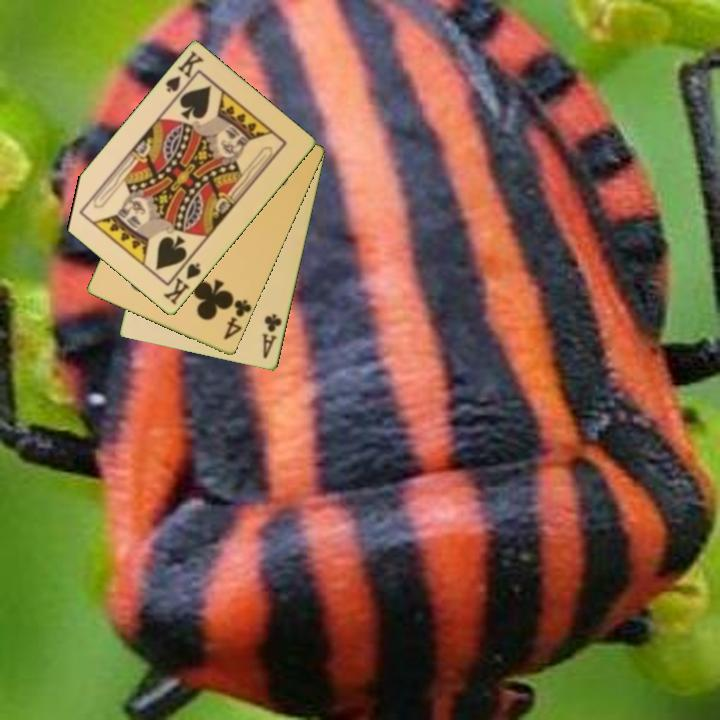4c: (220, 296, 254, 343)
Ac: (259, 310, 285, 362)
Ks: (162, 48, 207, 102), (160, 254, 204, 308)
